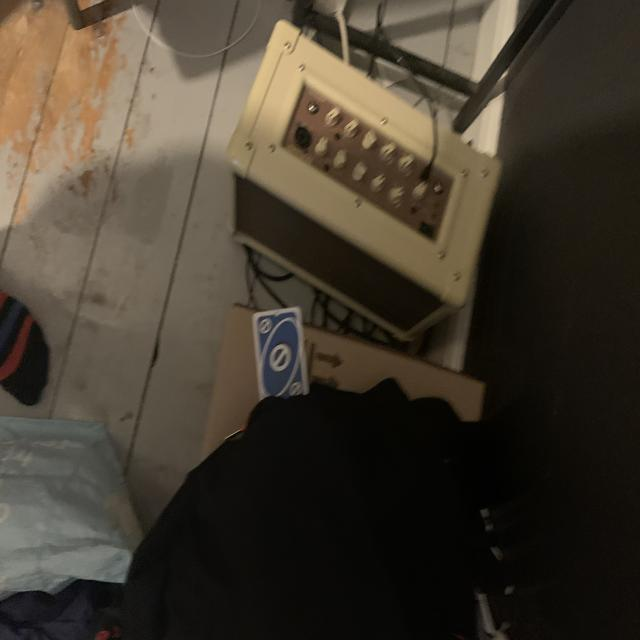lblueskip-20: (259, 316, 273, 336)
